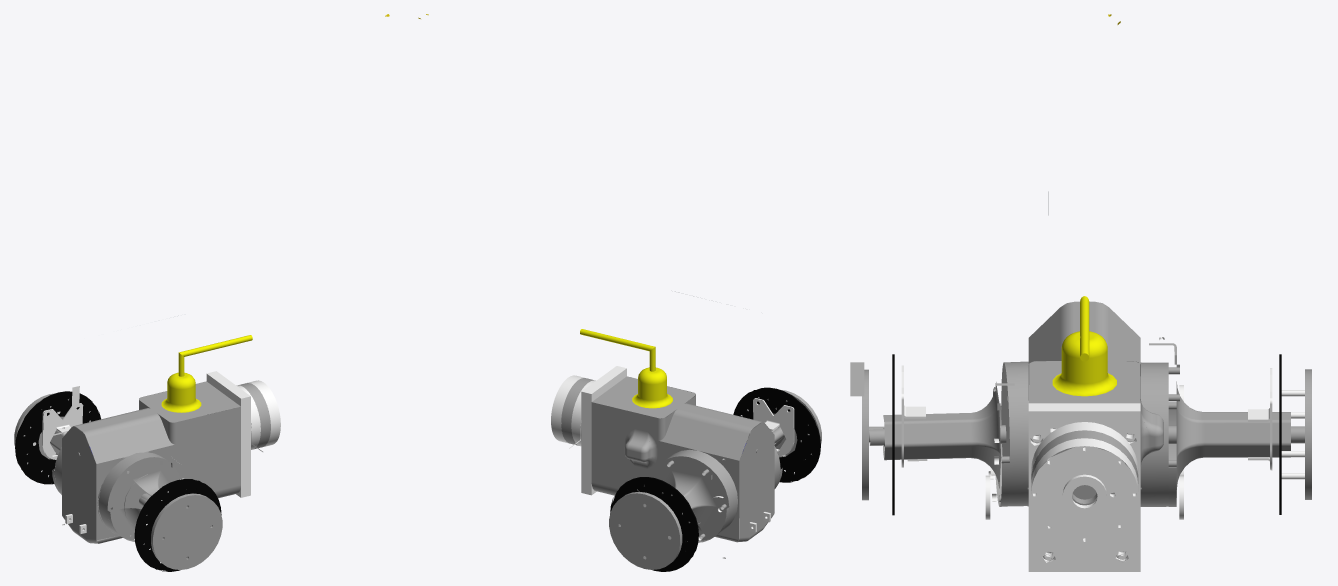
The model's file is cub_cadet_transaxle2.glb.
The picture shows the model from 3 angles, left to right: view 1: azimuth 30°, elevation 25°; view 2: azimuth 150°, elevation 25°; view 3: azimuth 270°, elevation 25°; orthographic projection. The views are drawn at different scales.
Visible parts, largest first — view 1: Shape_IndexedFaceSet4507, Shape_IndexedFaceSet4715, Shape_IndexedFaceSet4512, Shape_IndexedFaceSet5437, Shape_IndexedFaceSet4517, Shape_IndexedFaceSet4508, Shape_IndexedFaceSet6455, Shape_IndexedFaceSet4519.001, Shape_IndexedFaceSet6508, Shape_IndexedFaceSet5523, Shape_IndexedFaceSet4649.001, Shape_IndexedFaceSet4520.001 (+3 smaller); view 2: Shape_IndexedFaceSet4509, Shape_IndexedFaceSet4700, Shape_IndexedFaceSet4512, Shape_IndexedFaceSet6454, Shape_IndexedFaceSet4513, Shape_IndexedFaceSet5438, Shape_IndexedFaceSet4508, Shape_IndexedFaceSet4519, Shape_IndexedFaceSet6510, Shape_IndexedFaceSet6449, Shape_IndexedFaceSet4520, Shape_IndexedFaceSet6586 (+3 smaller); view 3: Shape_IndexedFaceSet6507, Shape_IndexedFaceSet6619, Shape_IndexedFaceSet4508, Shape_IndexedFaceSet4520.001, Shape_IndexedFaceSet4520, Shape_IndexedFaceSet4661, Shape_IndexedFaceSet4659.001, Shape_IndexedFaceSet4517, Shape_IndexedFaceSet4513, Shape_IndexedFaceSet4521, Shape_IndexedFaceSet6511, Shape_IndexedFaceSet4664.001 (+11 smaller).
Boxes of the visible parts, x1,y1,x2,y2 form: Shape_IndexedFaceSet4507: (96, 406, 240, 540); Shape_IndexedFaceSet4715: (153, 495, 222, 569); Shape_IndexedFaceSet4512: (62, 426, 96, 539); Shape_IndexedFaceSet5437: (16, 392, 100, 484); Shape_IndexedFaceSet4517: (86, 420, 174, 463); Shape_IndexedFaceSet4508: (76, 381, 240, 431); Shape_IndexedFaceSet6455: (136, 479, 220, 571); Shape_IndexedFaceSet4519.001: (107, 457, 180, 540); Shape_IndexedFaceSet6508: (241, 396, 250, 497); Shape_IndexedFaceSet5523: (42, 403, 83, 459); Shape_IndexedFaceSet4649.001: (107, 457, 179, 540); Shape_IndexedFaceSet4520.001: (98, 451, 165, 508); Shape_IndexedFaceSet4509: (591, 402, 739, 539); Shape_IndexedFaceSet4700: (609, 493, 679, 569); Shape_IndexedFaceSet4512: (739, 422, 774, 537); Shape_IndexedFaceSet6454: (734, 388, 820, 482); Shape_IndexedFaceSet4513: (660, 415, 749, 460); Shape_IndexedFaceSet5438: (610, 477, 698, 571); Shape_IndexedFaceSet4508: (592, 376, 759, 427); Shape_IndexedFaceSet4519: (652, 456, 728, 540); Shape_IndexedFaceSet6510: (581, 391, 591, 495); Shape_IndexedFaceSet6449: (753, 398, 793, 456); Shape_IndexedFaceSet4520: (663, 449, 737, 507); Shape_IndexedFaceSet6586: (561, 380, 587, 445); Shape_IndexedFaceSet6507: (1028, 411, 1140, 571); Shape_IndexedFaceSet6619: (1031, 446, 1138, 543); Shape_IndexedFaceSet4508: (1029, 301, 1140, 403); Shape_IndexedFaceSet4520.001: (1003, 361, 1028, 464); Shape_IndexedFaceSet4520: (1140, 362, 1168, 465); Shape_IndexedFaceSet4661: (1204, 423, 1290, 442); Shape_IndexedFaceSet4659.001: (884, 423, 970, 443); Shape_IndexedFaceSet4517: (1028, 307, 1060, 363); Shape_IndexedFaceSet4513: (1109, 307, 1140, 363); Shape_IndexedFaceSet4521: (1140, 465, 1168, 506); Shape_IndexedFaceSet6511: (1028, 403, 1140, 411); Shape_IndexedFaceSet4664.001: (884, 446, 970, 459).
Bounding box in the file's own units: 0.8423 × 1.09 × 0.6444.
